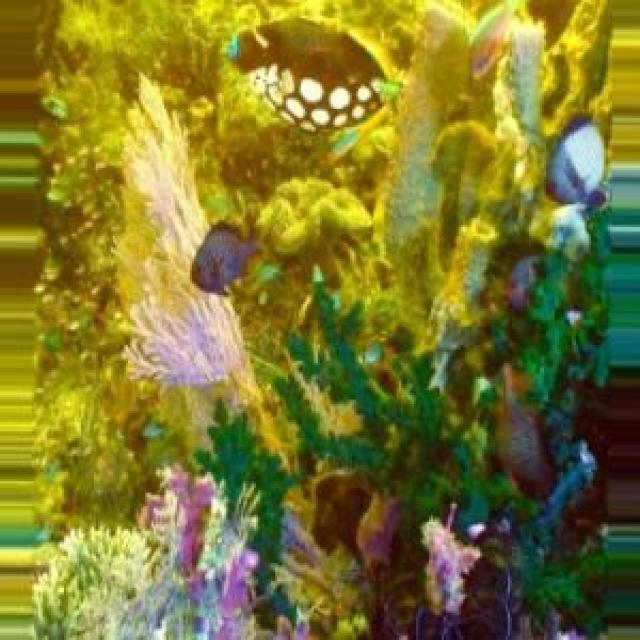Healthy: (127, 10, 588, 640)
